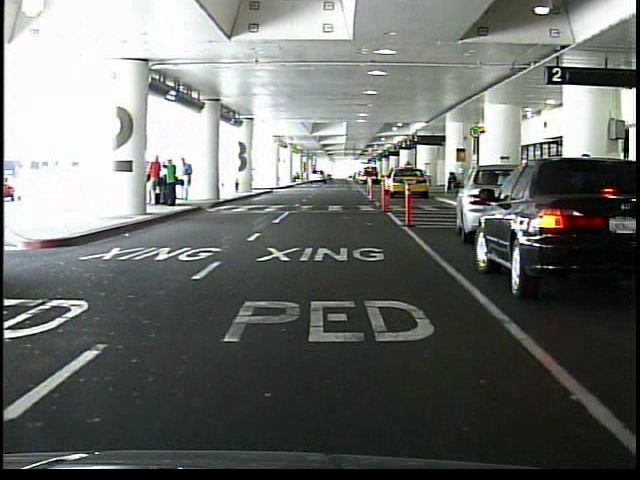person: (150, 153, 163, 207), (180, 157, 194, 202), (165, 158, 177, 207), (444, 171, 458, 195)
